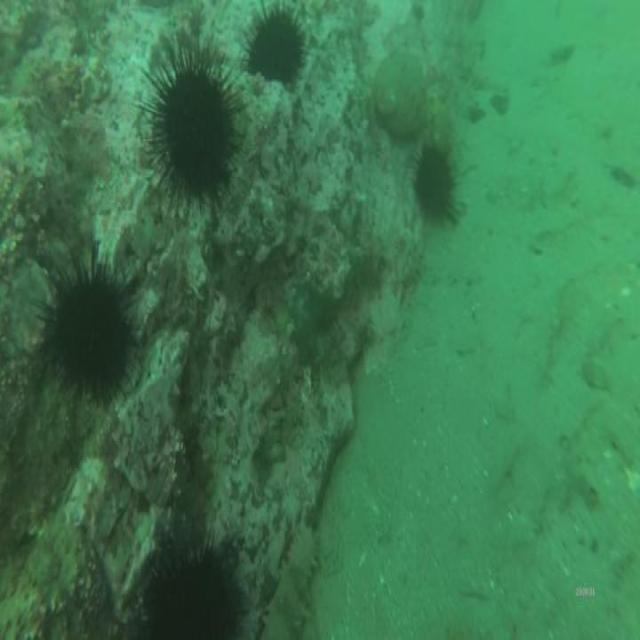echinus: (162, 71, 234, 196), (54, 275, 129, 392), (145, 551, 239, 640), (249, 9, 306, 78), (417, 145, 453, 223)
